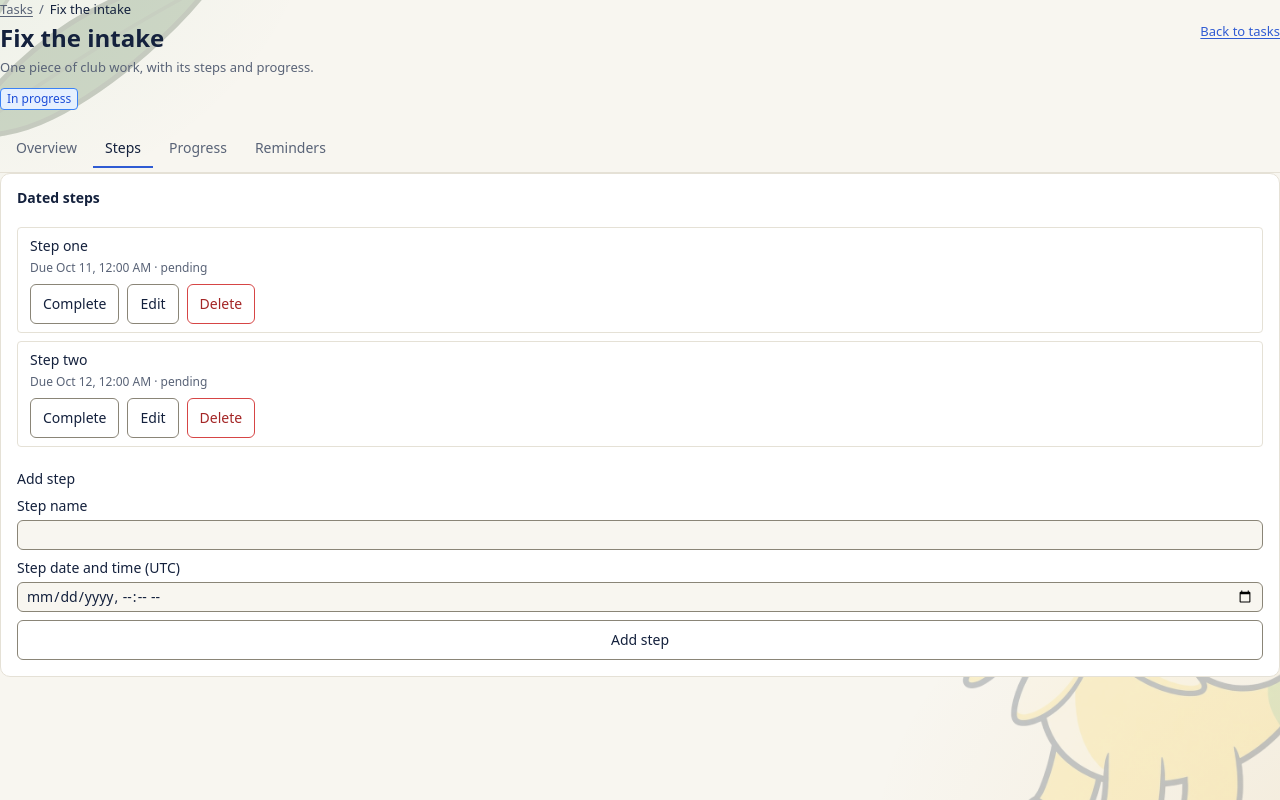
Test case: R1 destructive confirmations (detail) › N17 steps HTTP401 refuses without reloading or success focus
The width and height of the screenshot is (1280, 800).
Click the button "Delete" below "Step one" at [221, 304], box [186,284,255,324]
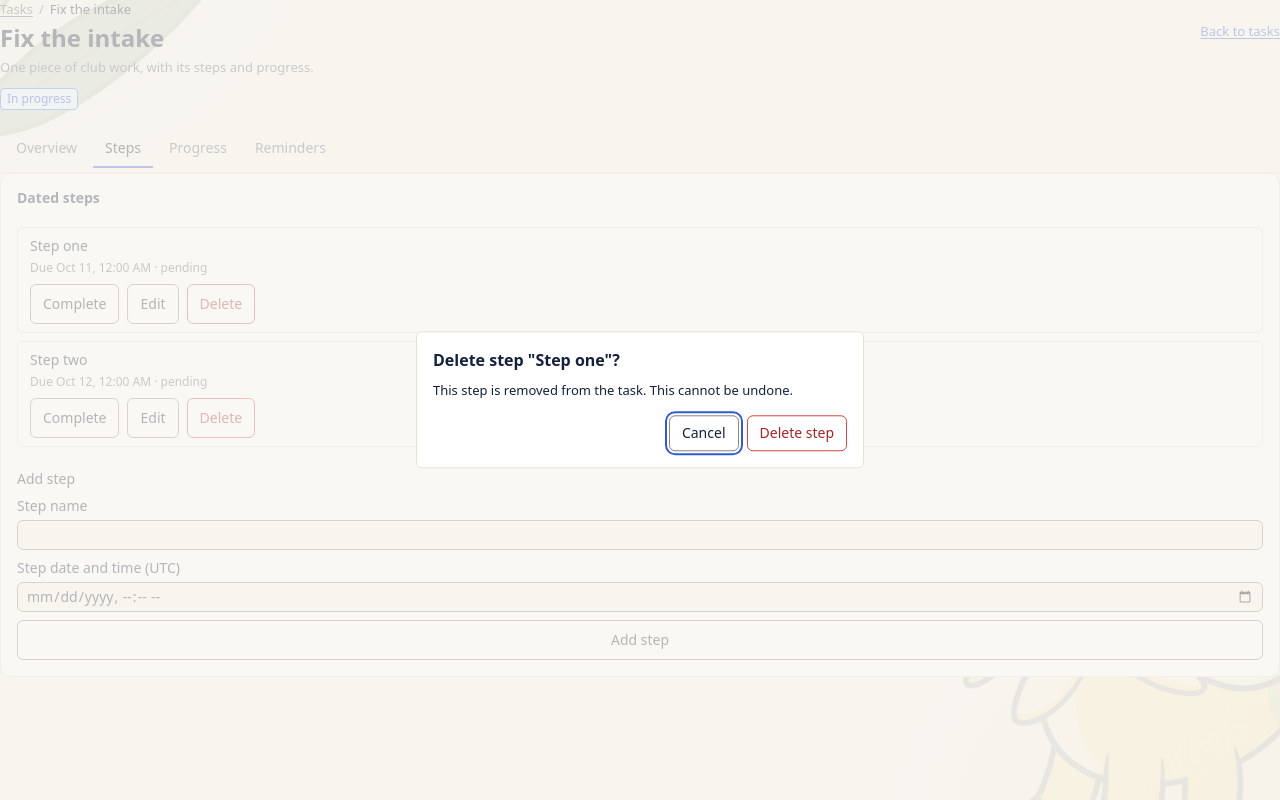
Click the button "Delete step" at [797, 434], box [746,416,847,452]
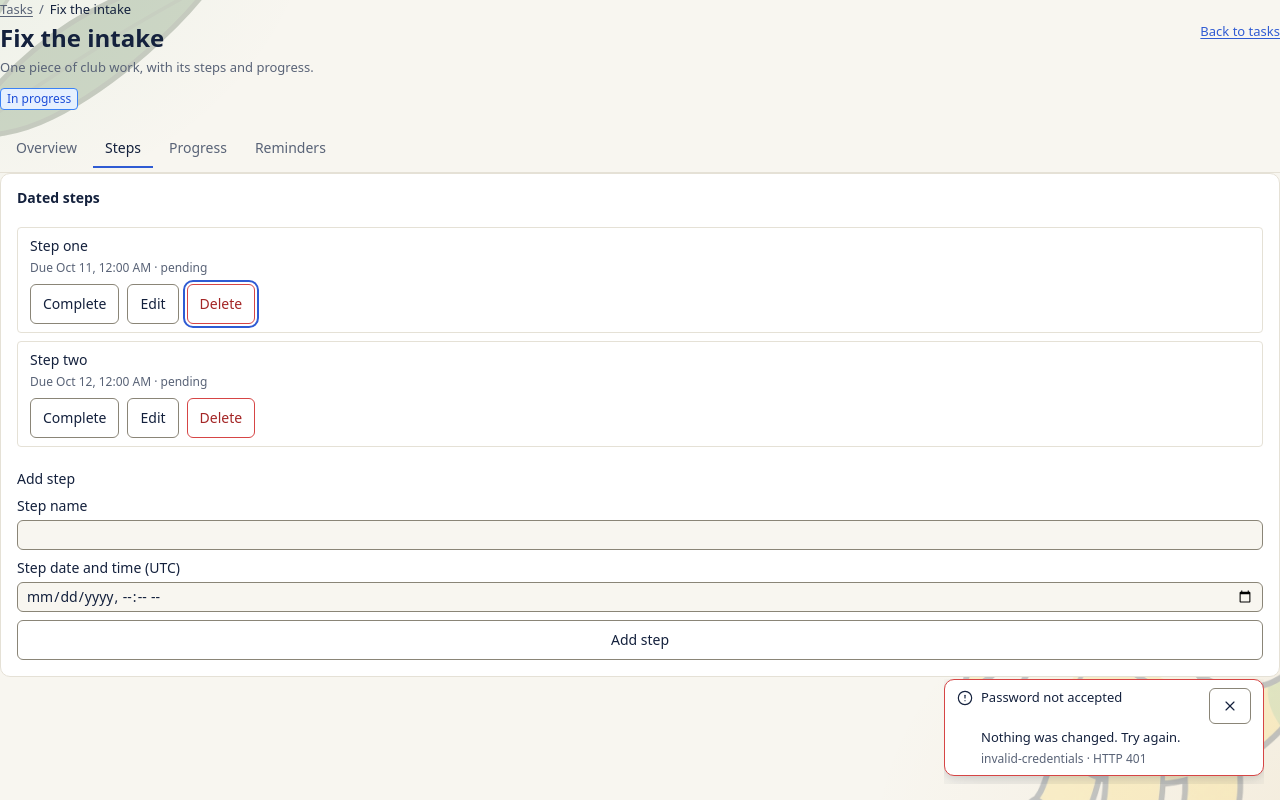
Now the dialog is gone
Now the message shows "invalid-credentials", box [981,750,1146,767]
